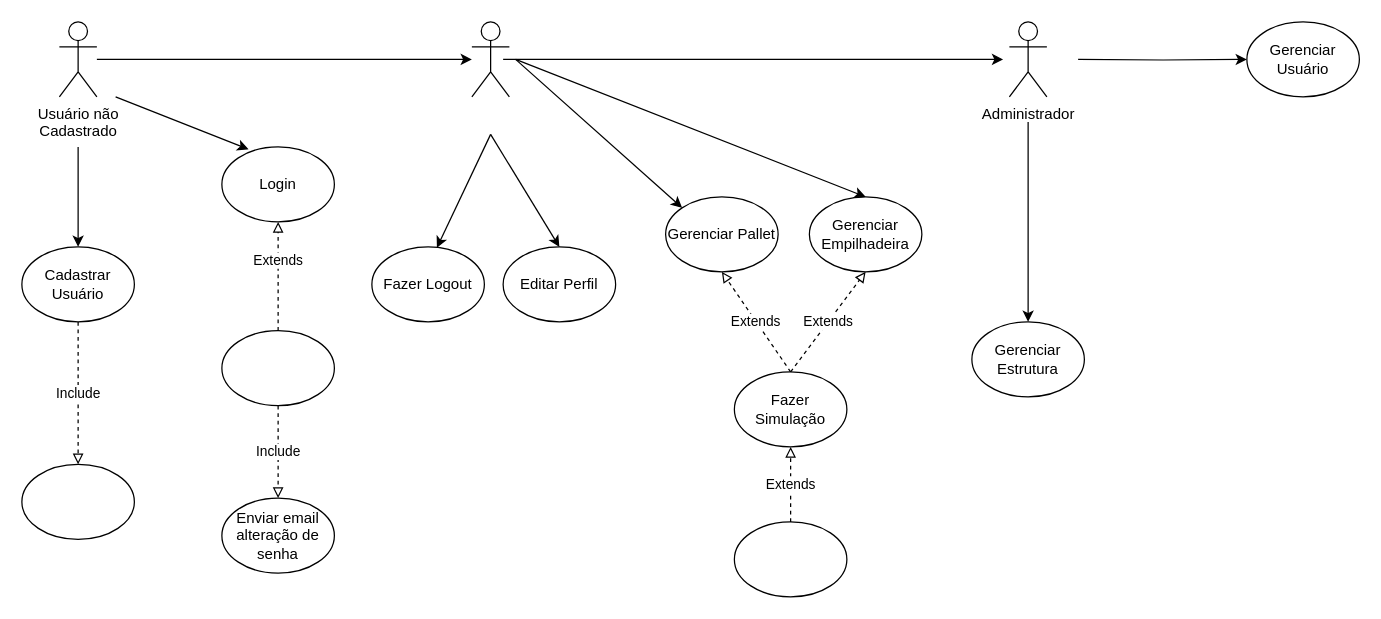
The diagram is 1381 pixels wide and 619 high, and some of its shapes have lost their labels. The centre of each missing label's shape, as x and y in pixels:
Confirmar email: (77,501)
Imprimir Simulação: (790,559)
Recuperar Senha: (277,367)
Usuário: (490,59)
